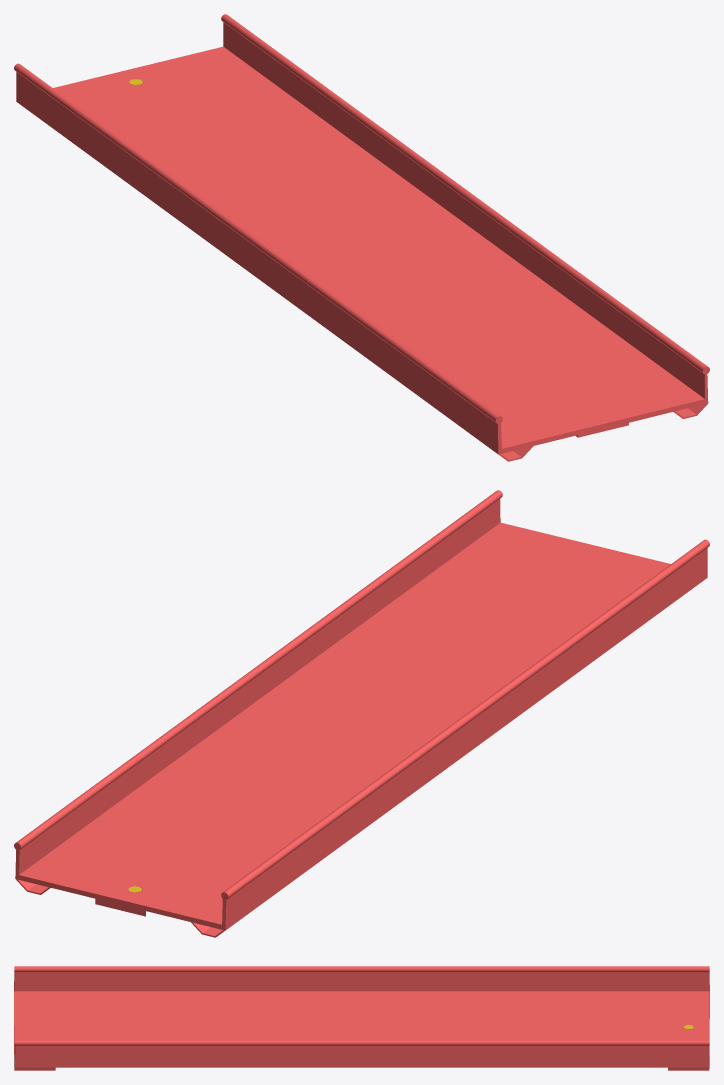
Rendered from trackpiece-lg-placed.glb.
3 renders of one model, top to bottom at view 1: azimuth 30°, elevation 25°; view 2: azimuth 150°, elevation 25°; view 3: azimuth 270°, elevation 25°, orthographic. The views are drawn at different scales.
Parts seen in each view (by area): view 1: Track piece/short; view 2: Track piece/short; view 3: Track piece/short.
Part boxes in pixels (left/top/right/bottom): Track piece/short: left=14, top=14, right=709, bottom=461; Track piece/short: left=14, top=490, right=709, bottom=937; Track piece/short: left=14, top=966, right=709, bottom=1070.
Bounding box in the file's own units: 8.34 × 1.78 × 32.48.
